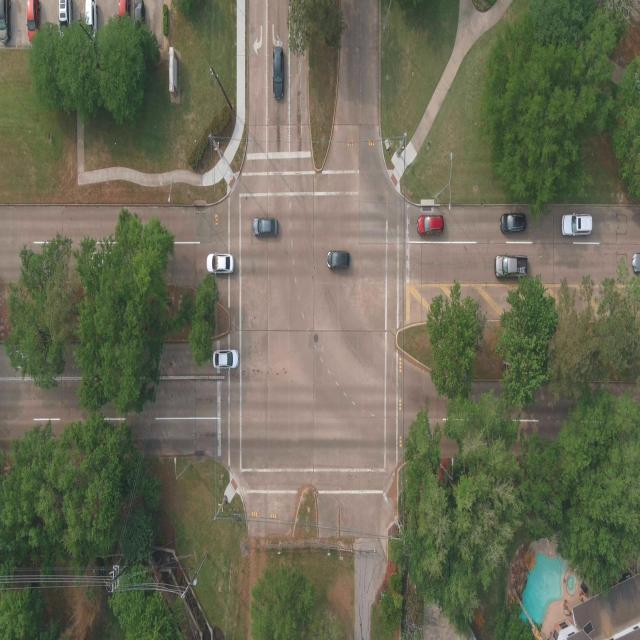Car: (561, 212, 593, 235), (206, 250, 235, 275), (272, 46, 285, 100), (416, 213, 445, 237), (500, 210, 527, 234), (213, 347, 240, 370), (252, 217, 279, 238)
Truck: (494, 252, 529, 280)
Van: (326, 251, 350, 270)
